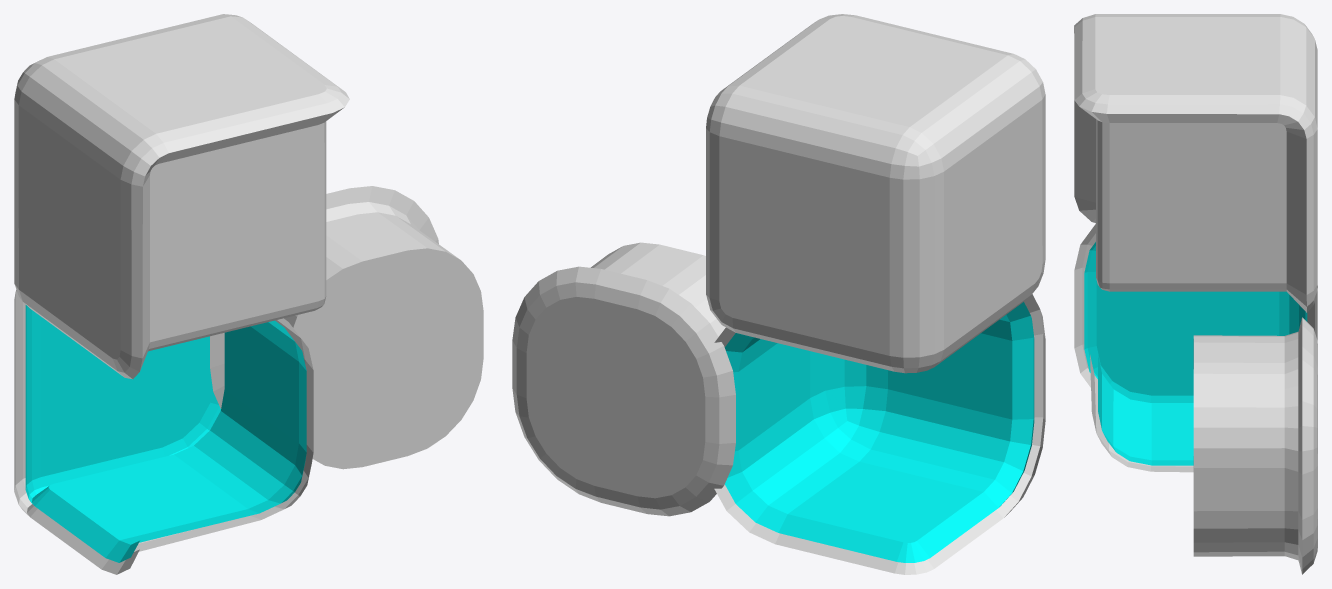
The model's file is frame.glb.
3 views of the same model, side by side, from view 1: azimuth 30°, elevation 25°; view 2: azimuth 150°, elevation 25°; view 3: azimuth 270°, elevation 25° (orthographic). The views are drawn at different scales.
Parts seen in each view (by area): view 1: fco, fed, fce; view 2: fco, fed, fce; view 3: fco, fce, fed.
Boxes of the visible parts, box(x1,y1,x2,y2) form: fco: box(14, 14, 349, 379); fed: box(14, 290, 313, 574); fce: box(210, 186, 483, 469); fco: box(706, 14, 1045, 373); fed: box(714, 294, 1045, 574); fce: box(512, 242, 735, 516); fco: box(1074, 14, 1317, 312); fce: box(1193, 317, 1317, 574); fed: box(1074, 224, 1317, 472).
Bounding box in the file's own units: 2.18 × 2.18 × 1.16.
